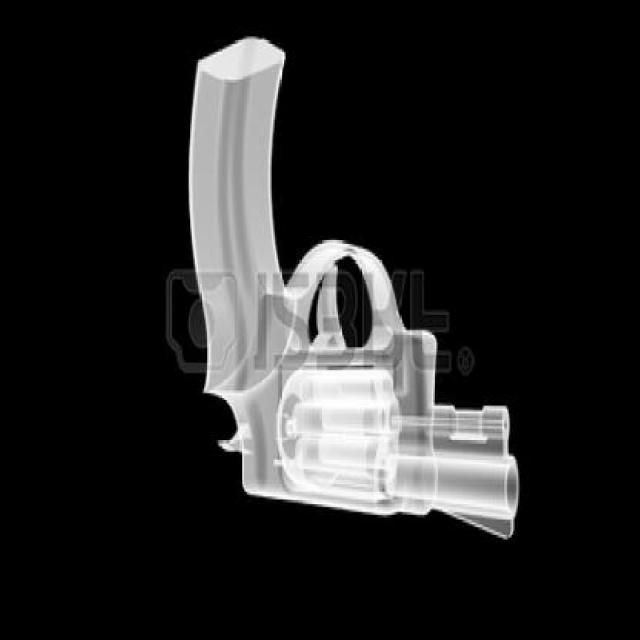pistol: (186, 40, 526, 546)
